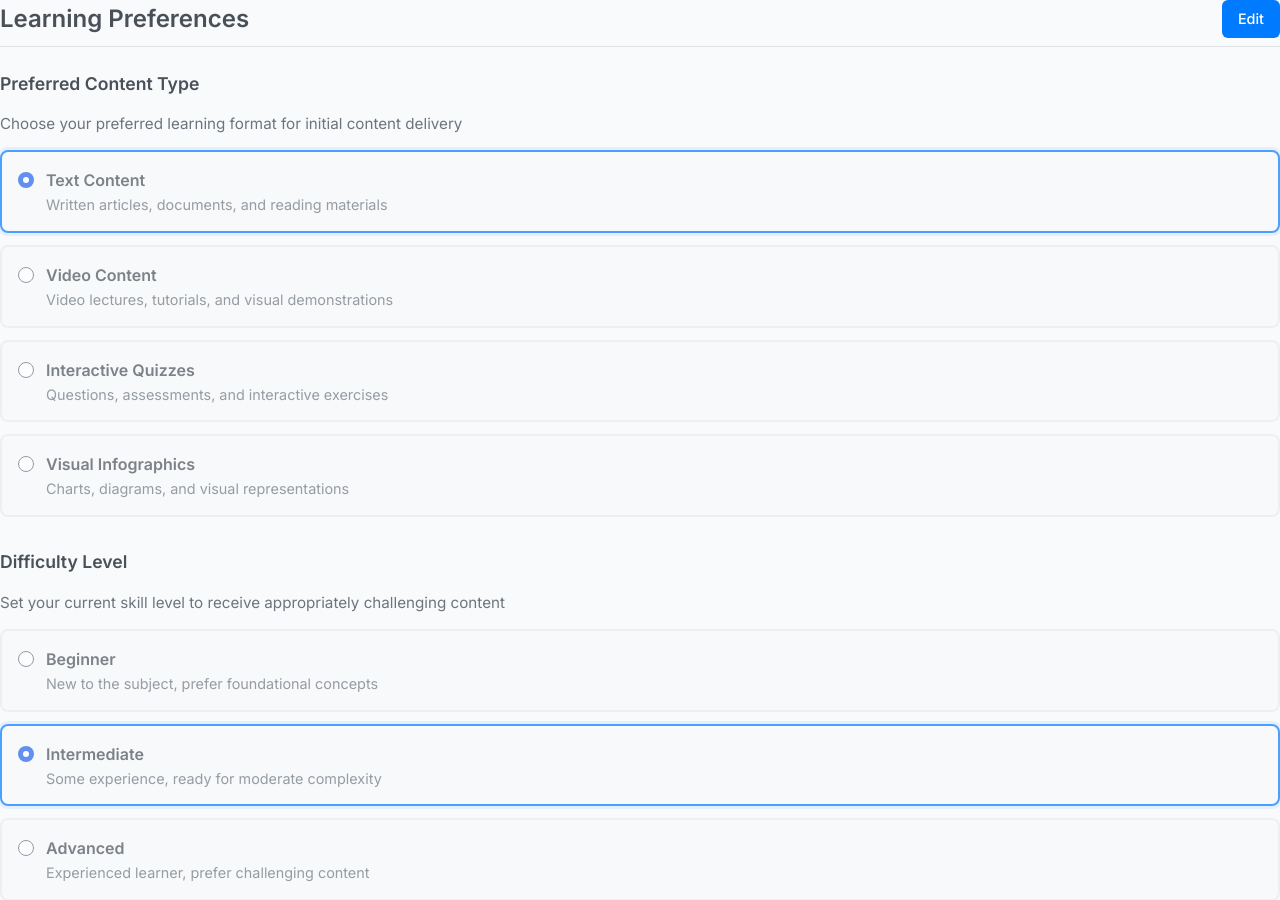
Test: LearningPreferences › enables editing mode when edit button is clicked
Click the button "Edit" at (1251, 19), box [1222,0,1279,38]
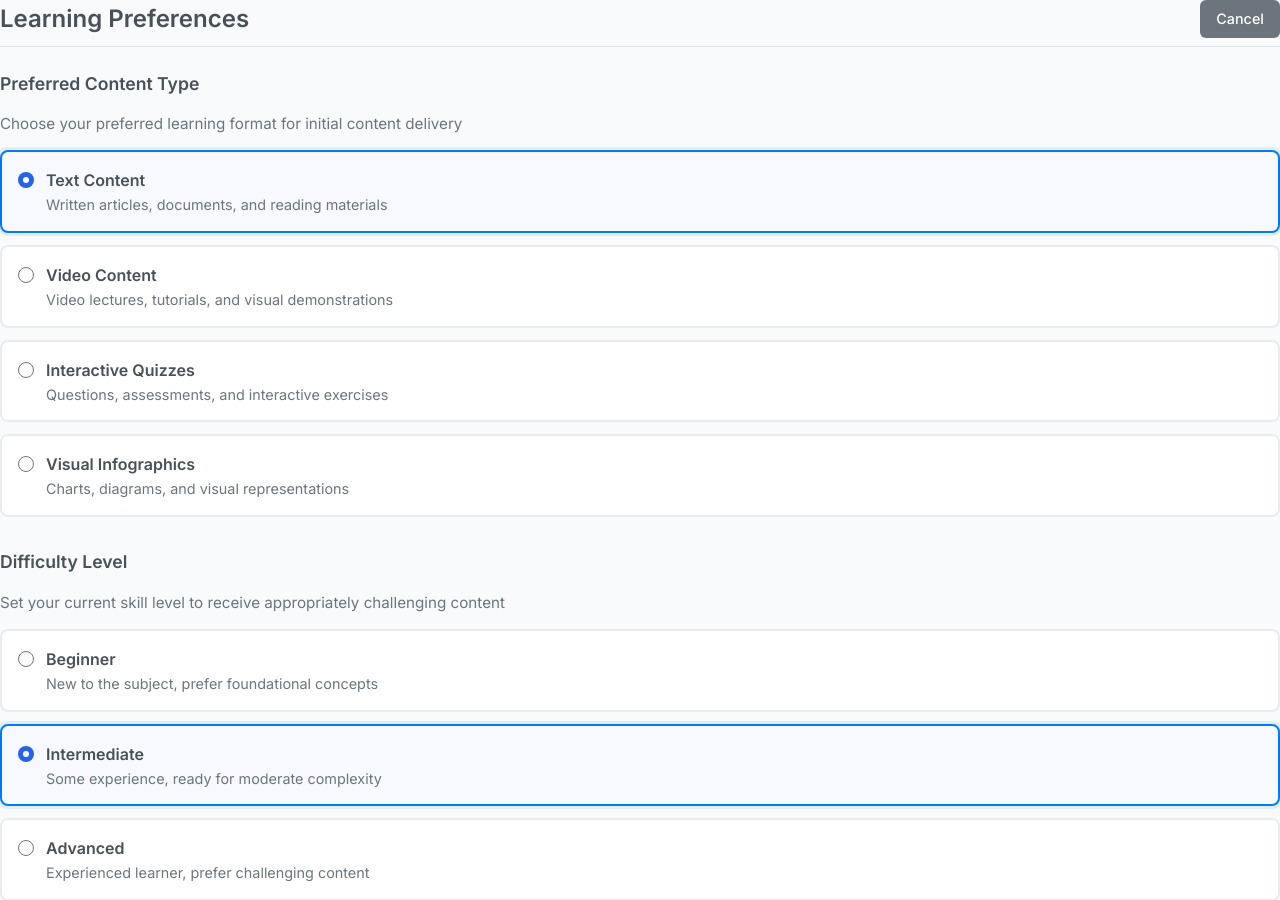
Expected: the button "Cancel" is shown, [1200,0,1279,38]
Expected: the radio button labelled "Text Content" is enabled, [18,172,34,188]
